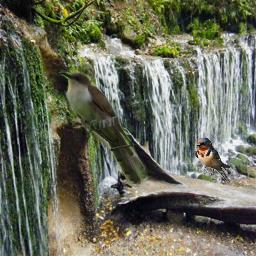Cuckoo: (58, 69, 148, 187)
Swallow: (194, 137, 230, 183)
